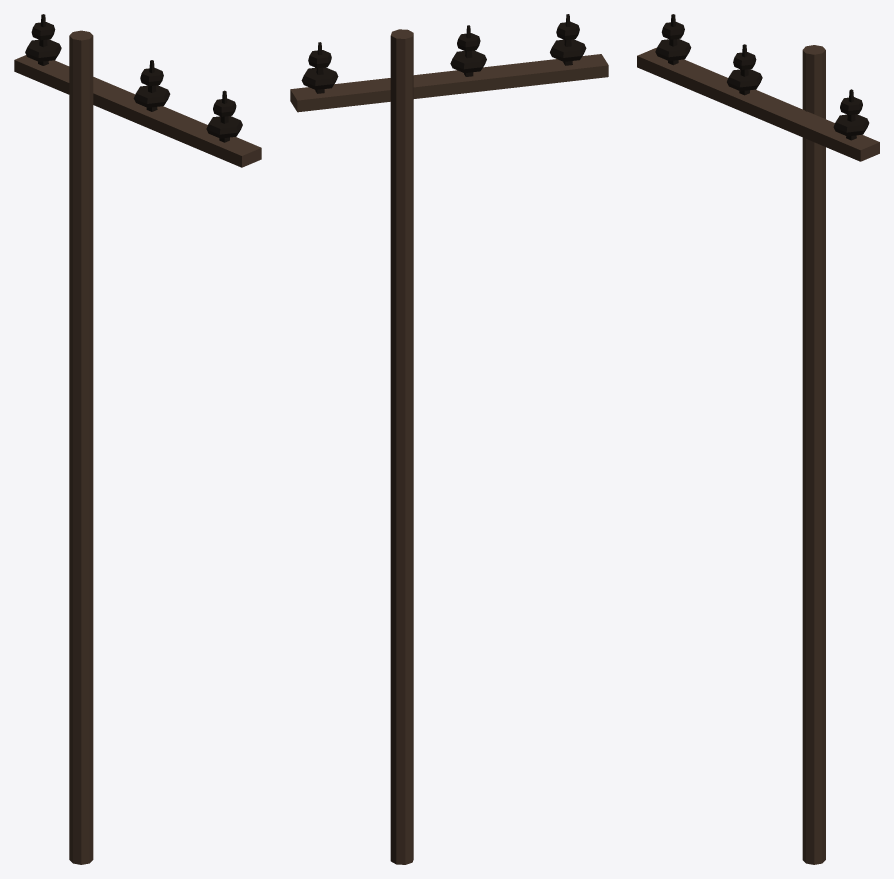
File: tiang.fbx
3 views of the same model, side by side, from view 1: azimuth 90°, elevation 25°; view 2: azimuth 150°, elevation 25°; view 3: azimuth 270°, elevation 25° (orthographic).
Visible parts, largest first — view 1: Cylinder.007; view 2: Cylinder.007; view 3: Cylinder.007.
Boxes of the visible parts, <box> form: Cylinder.007: <box>14,14,261,864</box>; Cylinder.007: <box>290,14,608,864</box>; Cylinder.007: <box>637,14,879,864</box>.
Size of the model in its own units: 126 by 463 by 126.
